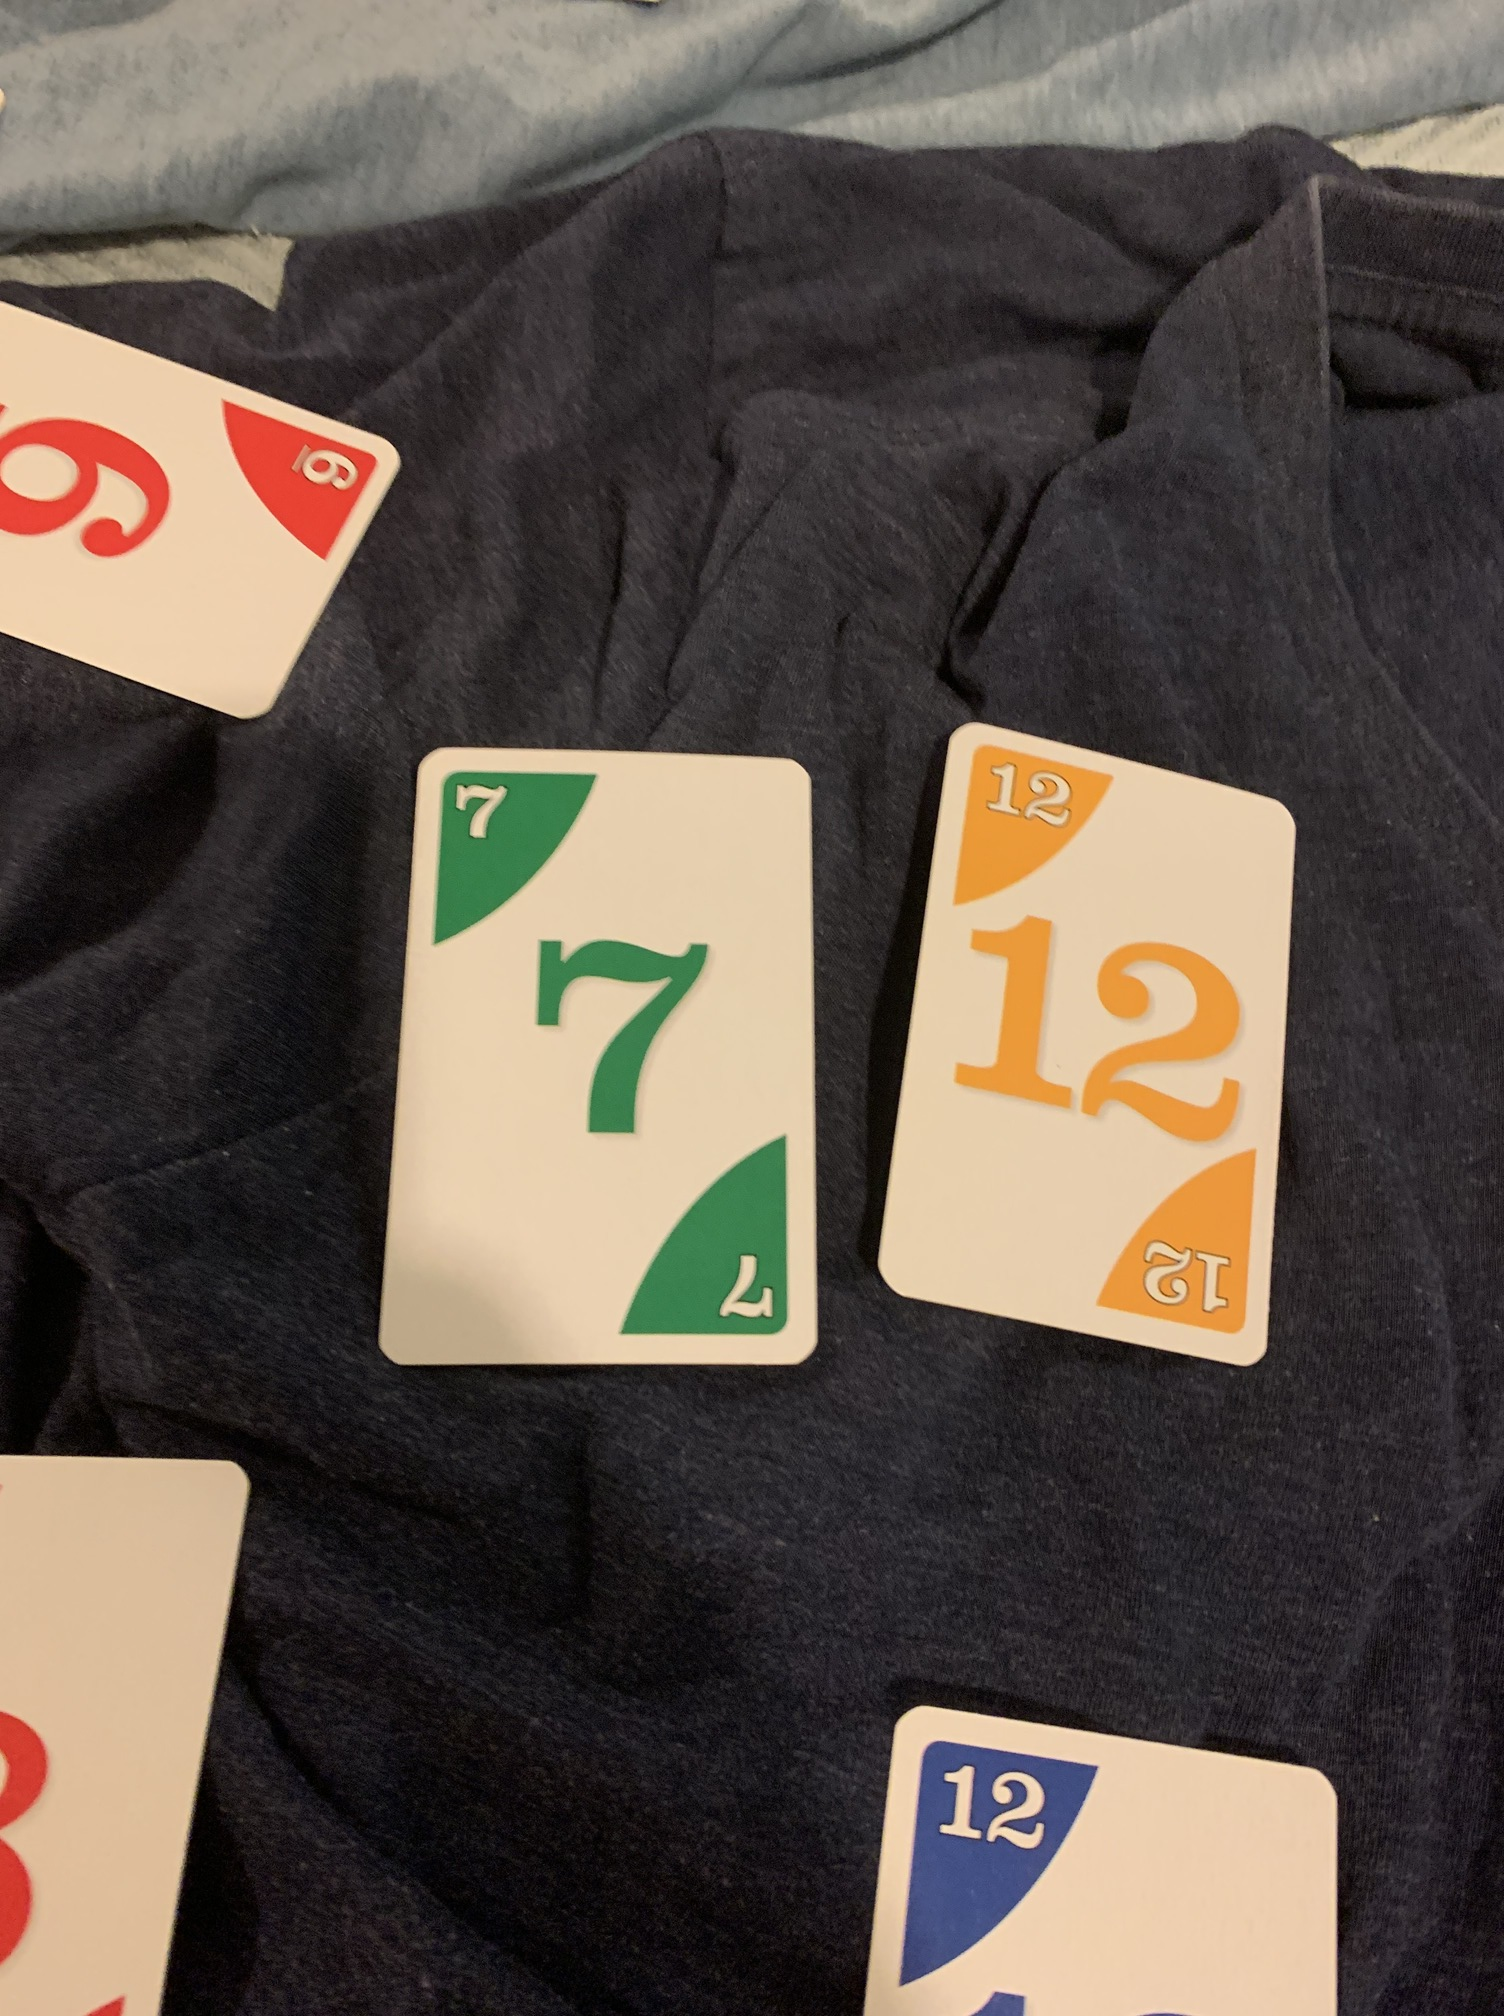seven: (374, 736, 831, 1386)
twelve: (863, 714, 1305, 1376)
